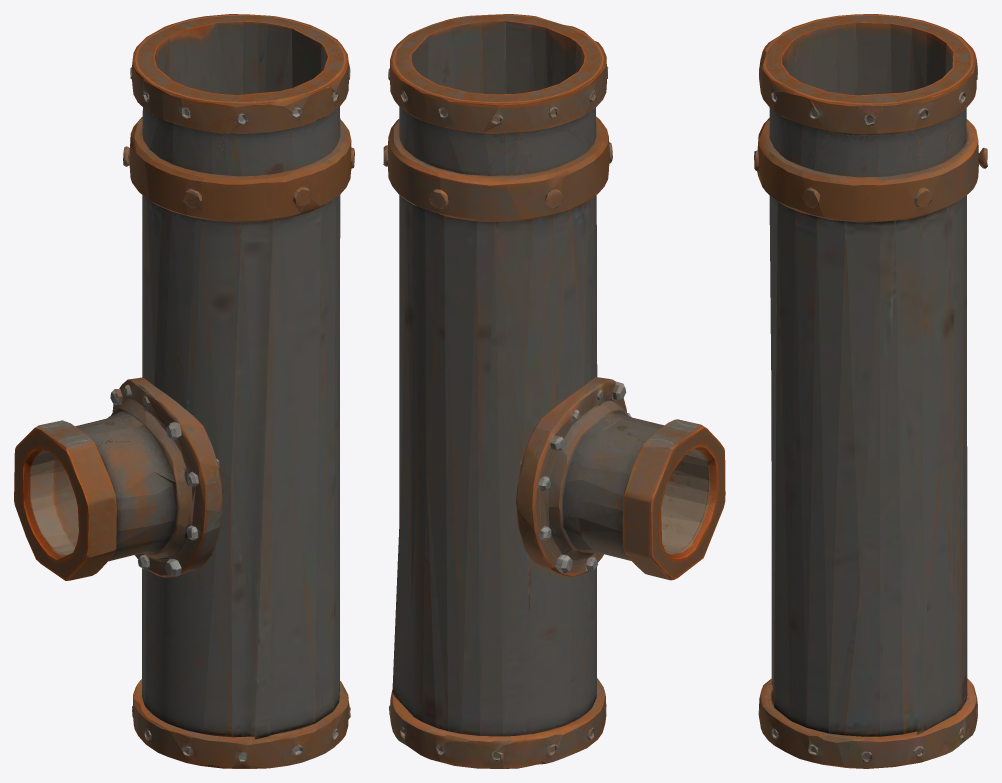
File: cano-low.glb
3 views of the same model, side by side, from view 1: azimuth 30°, elevation 25°; view 2: azimuth 150°, elevation 25°; view 3: azimuth 270°, elevation 25° (orthographic).
Size of the model in its own units: 0.8518 by 1.9 by 0.6051.
1 material, 1 textured.
